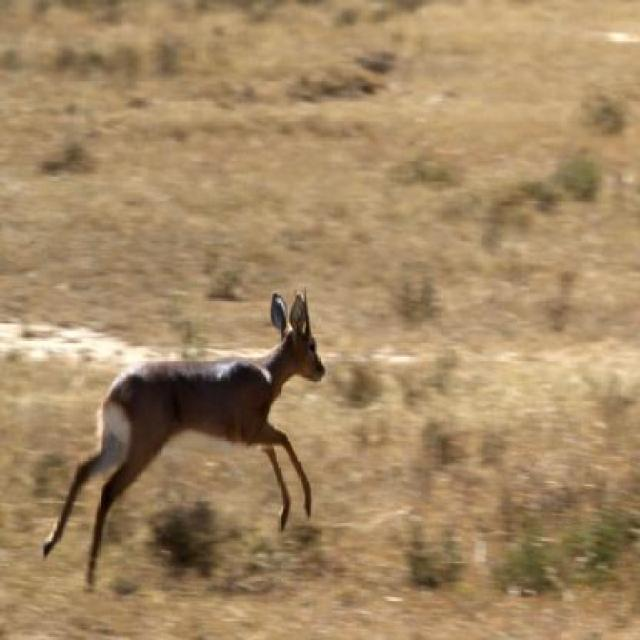Deer: (43, 287, 326, 585)
